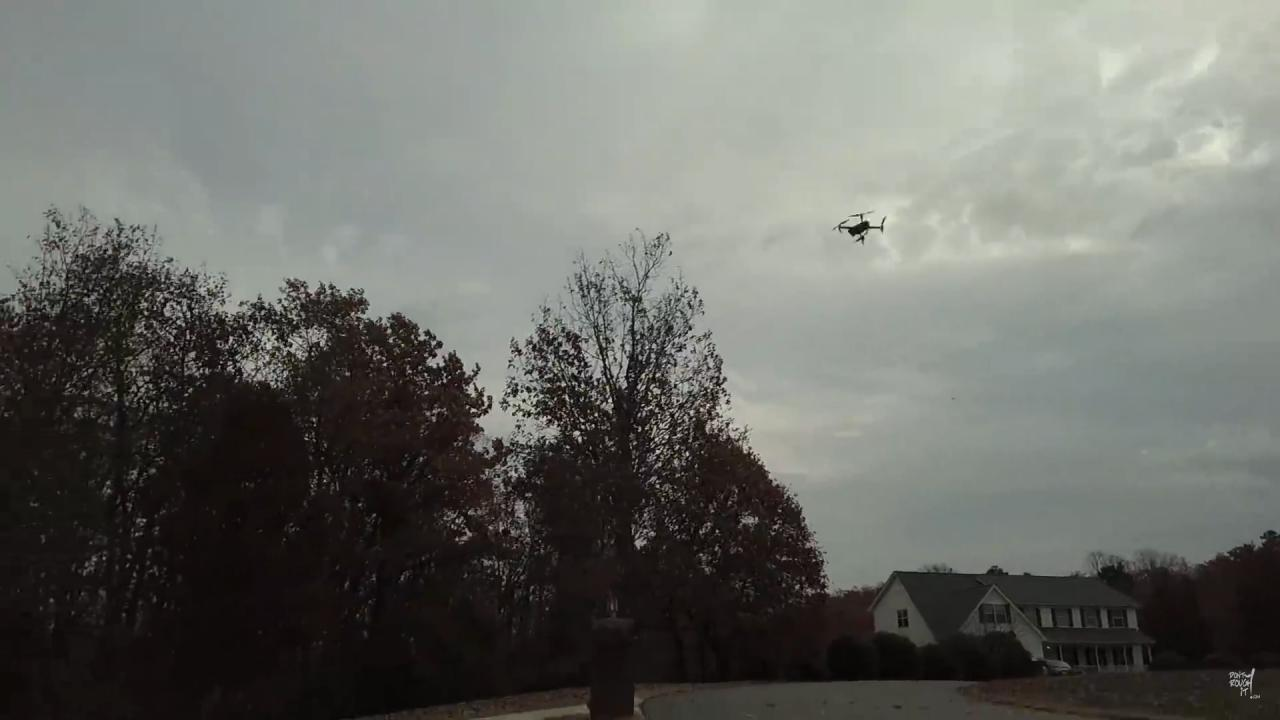Drone: (822, 200, 902, 253)
